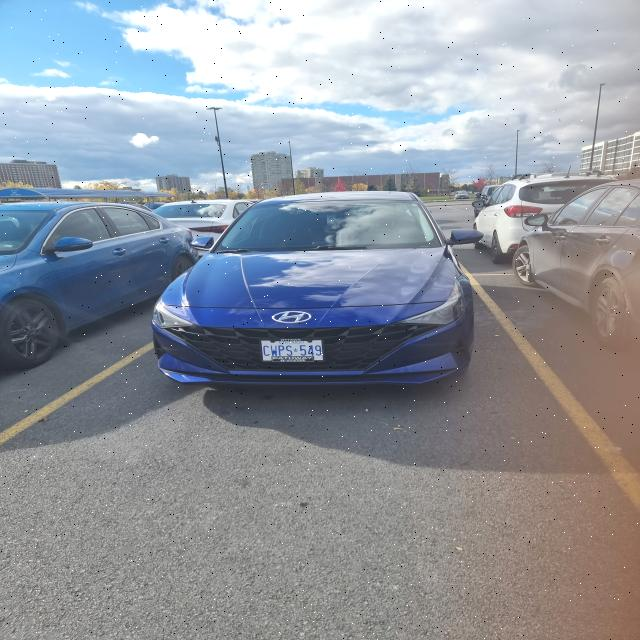plaque: (261, 339, 323, 362)
